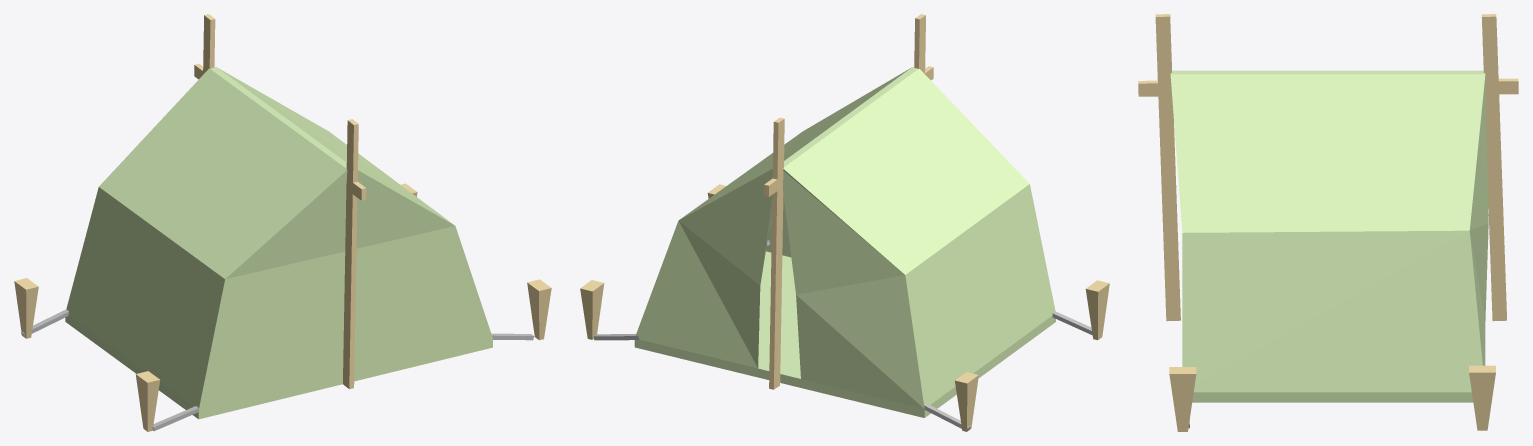
The model's file is CommunicationCamp.fbx.
3 renders of one model, left to right at view 1: azimuth 30°, elevation 25°; view 2: azimuth 150°, elevation 25°; view 3: azimuth 270°, elevation 25°, orthographic. The views are drawn at different scales.
Visible parts, largest first — view 1: pCube15, pCube17, pCube20, pCube21, pCube22, pCube16; view 2: pCube15, pCube16, pCube21, pCube19, pCube22, pCube17; view 3: pCube15, pCube17, pCube16, pCube19, pCube20, pCube18.
Boxes of the visible parts, x1,y1,x2,y2 form: pCube15: (65,66,492,419); pCube17: (343,119,358,389); pCube20: (527,279,551,340); pCube21: (135,371,160,431); pCube22: (14,278,38,338); pCube16: (203,14,215,73); pCube15: (634,67,1055,417); pCube16: (769,117,784,389); pCube21: (1085,280,1109,340); pCube19: (580,280,604,339); pCube22: (954,372,978,431); pCube17: (914,14,925,73); pCube15: (1170,70,1488,402); pCube17: (1155,14,1180,321); pCube16: (1481,14,1506,321); pCube19: (1469,365,1495,430); pCube20: (1169,367,1196,431); pCube18: (1138,78,1518,96).
Bounding box in the file's own units: 3.16 × 2.05 × 2.28.
